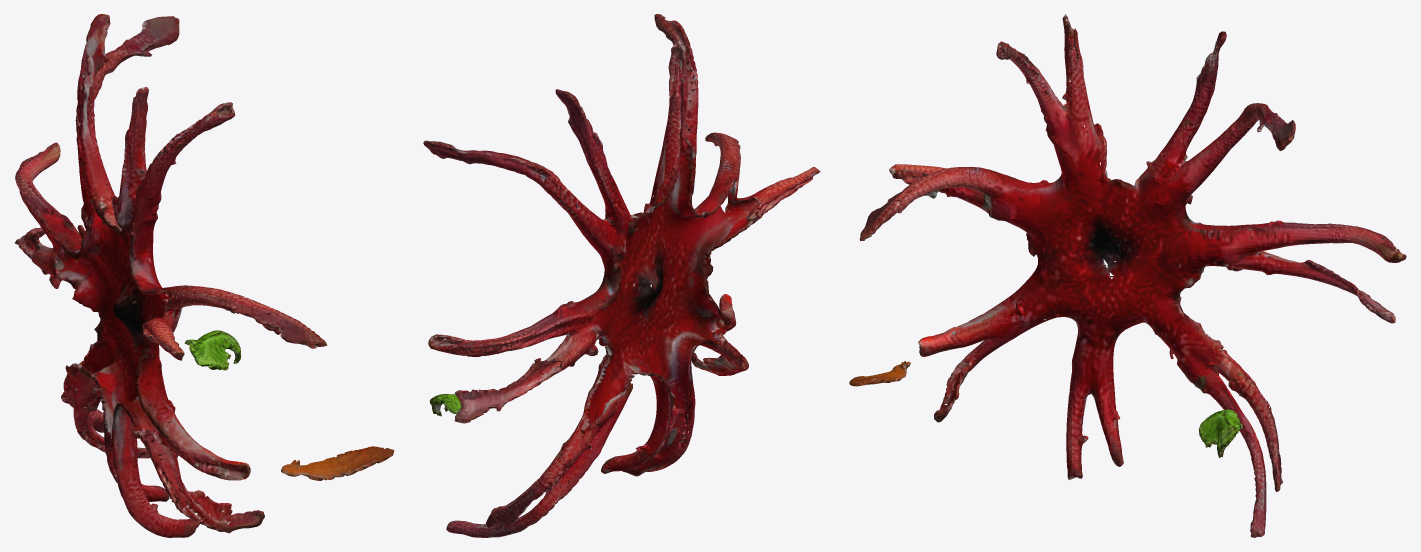
Rendered from 48tripo.glb.
3 views of the same model, side by side, from view 1: azimuth 30°, elevation 25°; view 2: azimuth 150°, elevation 25°; view 3: azimuth 270°, elevation 25° (orthographic). The views are drawn at different scales.
Parts seen in each view (by area): view 1: tripo_node_07fbccf7-d8a2-441b-a440-8bf0e71066ee; view 2: tripo_node_07fbccf7-d8a2-441b-a440-8bf0e71066ee; view 3: tripo_node_07fbccf7-d8a2-441b-a440-8bf0e71066ee.
Boxes of the visible parts, x1=… form: tripo_node_07fbccf7-d8a2-441b-a440-8bf0e71066ee: x1=14, y1=14, x2=394, y2=537; tripo_node_07fbccf7-d8a2-441b-a440-8bf0e71066ee: x1=423, y1=14, x2=820, y2=537; tripo_node_07fbccf7-d8a2-441b-a440-8bf0e71066ee: x1=849, y1=14, x2=1406, y2=537.
Bounding box in the file's own units: 0.4768 × 0.9059 × 1.
Materials: 1 (1 with a texture image).
